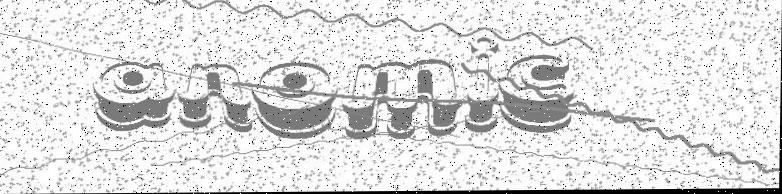a: (90, 60, 177, 132)
c: (498, 55, 575, 135)
i: (463, 36, 501, 135)
m: (340, 58, 461, 140)
n: (176, 62, 255, 138)
o: (251, 61, 338, 141)
